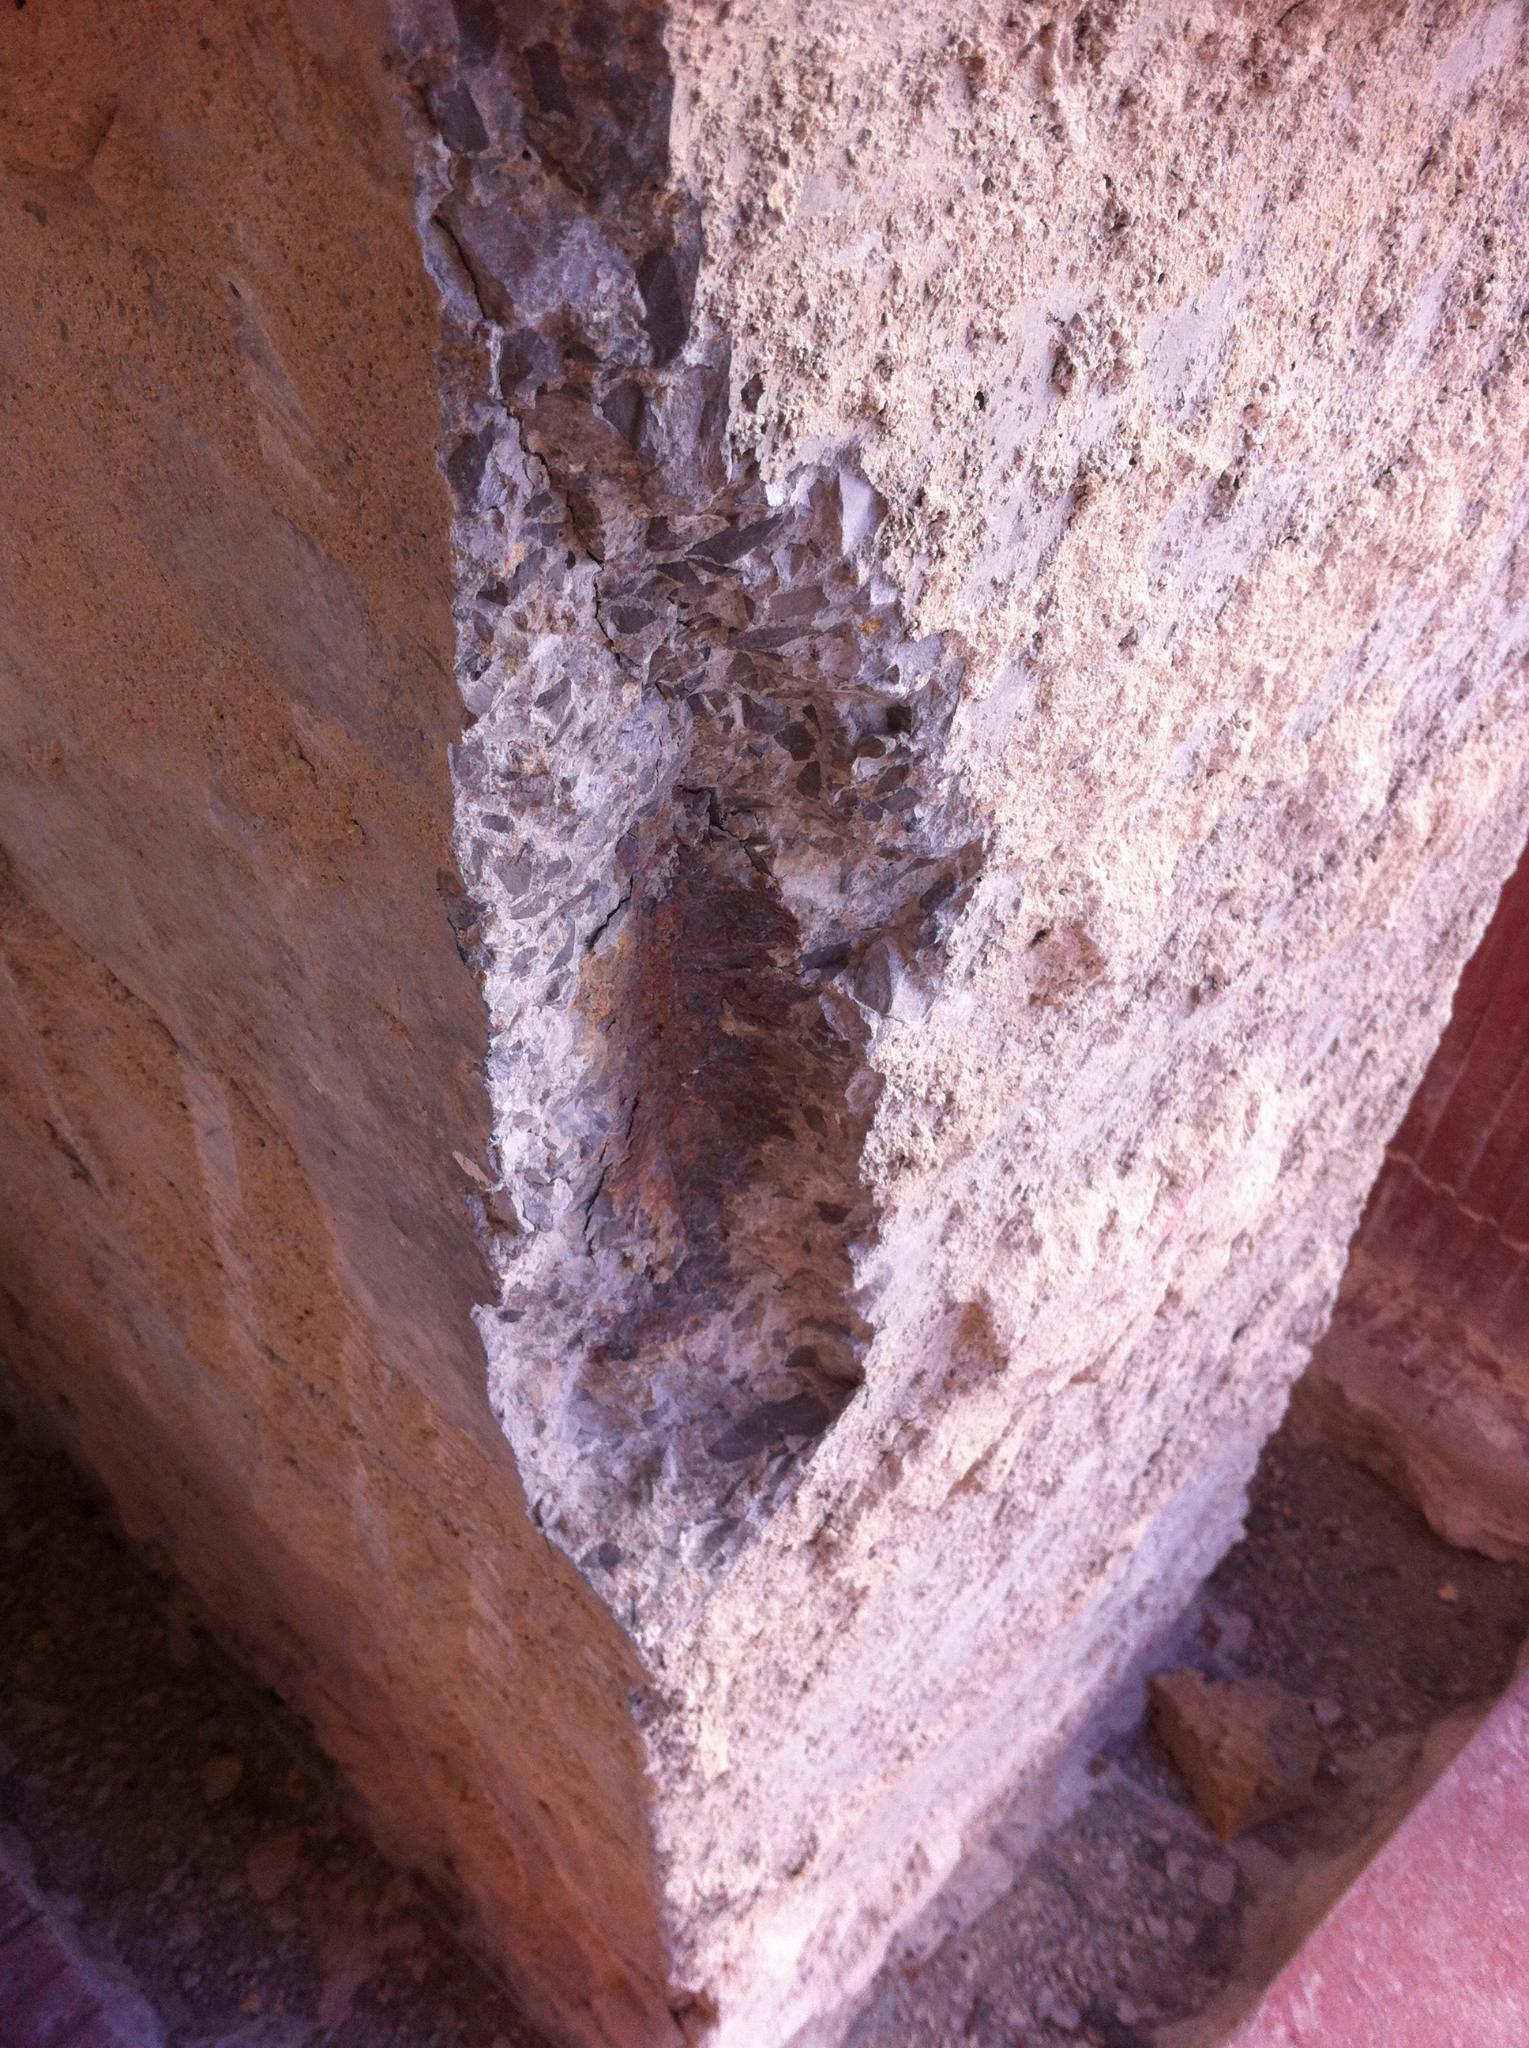spalling: (390, 0, 1002, 1642)
